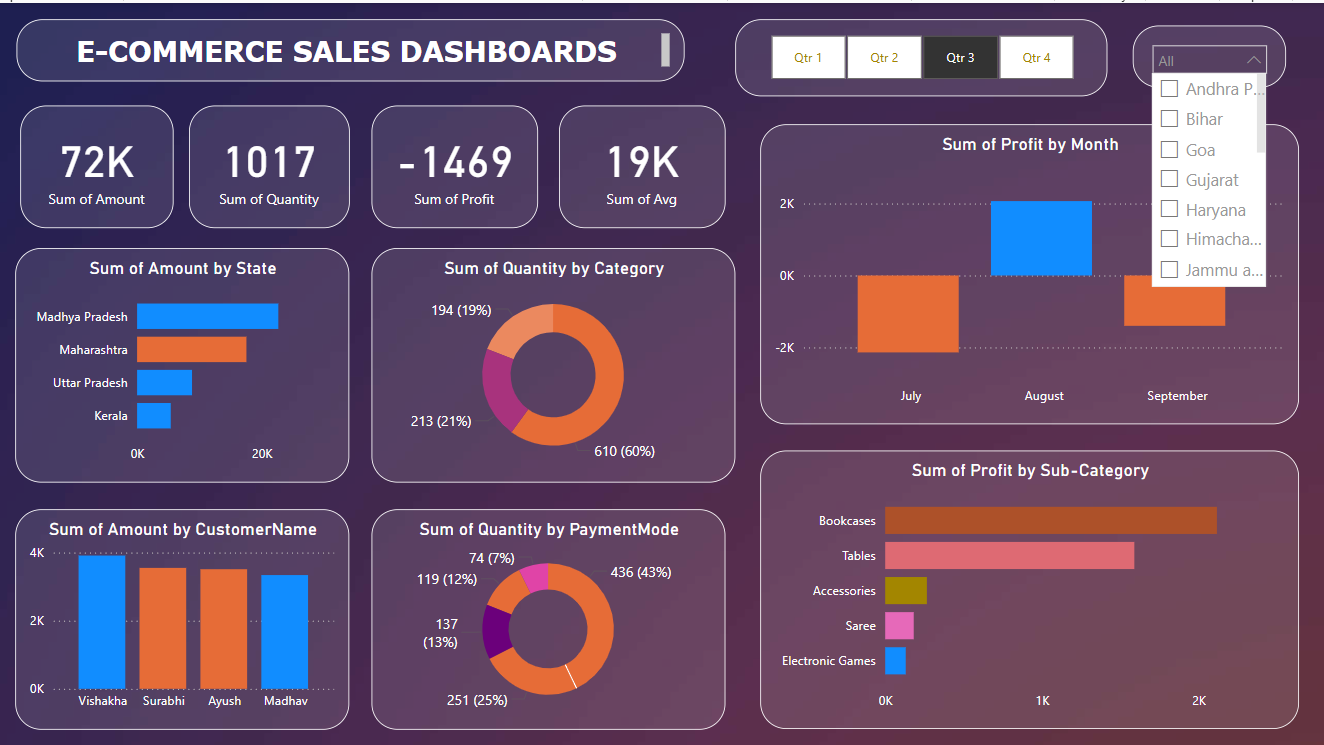

The page's visual inventory and layout, read from the dashboard file:
{"tool":"powerbi","page":{"name":"Page 1","canvas":[1280,720],"ordinal":0},"visuals":[{"type":"textbox","box":[16.5,15.1,644.9,60.4],"z":0},{"type":"columnChart","fields":{"Category":["Orders.Order Date.Variation.Date Hierarchy.Month"],"Y":["Details.Profit"]},"box":[734.1,116.6,520.1,289.5],"z":1000},{"type":"barChart","fields":{"Category":["Details.Sub-Category"],"Y":["Details.Profit"]},"box":[734.1,432.2,520.1,269],"z":2000},{"type":"donutChart","fields":{"Category":["Details.Category"],"Y":["Details.Quantity"]},"box":[359.5,236,351.3,226.4],"z":3000},{"type":"donutChart","fields":{"Category":["Details.PaymentMode"],"Y":["Details.Quantity"]},"box":[359.5,488.5,341.7,212.7],"z":4000},{"type":"card","fields":{"Values":["Details.Amount"]},"box":[20.6,98.8,148.2,118],"z":5000},{"type":"card","fields":{"Values":["Details.Quantity"]},"box":[183.9,98.8,155.1,118],"z":6000},{"type":"card","fields":{"Values":["Details.Profit"]},"box":[359.5,98.8,160.5,118],"z":7000},{"type":"card","fields":{"Values":["Details.Avg"]},"box":[540.7,98.8,160.5,118],"z":8000},{"type":"barChart","fields":{"Category":["Orders.State"],"Y":["Details.Amount"]},"box":[15.1,236,322.5,226.4],"z":9000},{"type":"columnChart","fields":{"Category":["Orders.CustomerName"],"Y":["Details.Amount"]},"box":[15.1,488.5,322.5,212.7],"z":10000},{"type":"slicer","fields":{"Values":["Orders.Order Date.Variation.Date Hierarchy.Quarter"]},"box":[710.8,15.1,359.5,74.1],"z":11000},{"type":"slicer","fields":{"Values":["Orders.State"]},"box":[1093.7,22,148.2,60.4],"z":11001}]}

Visuals, with their boxes in screenshot pixels (x1, y1, x2, y2), scaled from the page's 1280x720 canvas onto the 1324x745 screenshot:
textbox: 17:16:684:78
columnChart - Orders.Order Date.Variation.Date Hierarchy.Month x Details.Profit: 759:121:1297:420
barChart - Details.Sub-Category x Details.Profit: 759:447:1297:726
donutChart - Details.Category x Details.Quantity: 372:244:735:478
donutChart - Details.PaymentMode x Details.Quantity: 372:505:725:726
card - Details.Amount: 21:102:175:224
card - Details.Quantity: 190:102:351:224
card - Details.Profit: 372:102:538:224
card - Details.Avg: 559:102:725:224
barChart - Orders.State x Details.Amount: 16:244:349:478
columnChart - Orders.CustomerName x Details.Amount: 16:505:349:726
slicer - Orders.Order Date.Variation.Date Hierarchy.Quarter: 735:16:1107:92
slicer - Orders.State: 1131:23:1285:85
